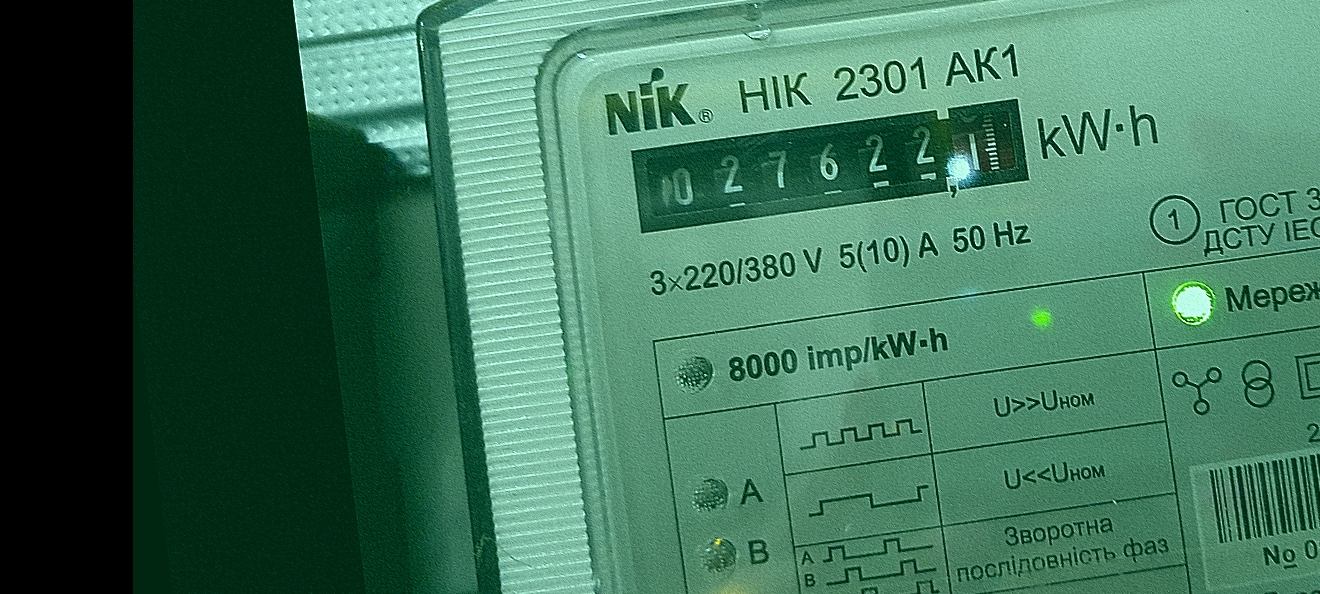0: (669, 164, 699, 209)
1: (964, 130, 985, 174)
2: (862, 132, 891, 176), (719, 153, 747, 198), (911, 123, 938, 167)
6: (816, 141, 842, 184)
7: (767, 148, 795, 194)
screen: (618, 88, 1045, 243)
